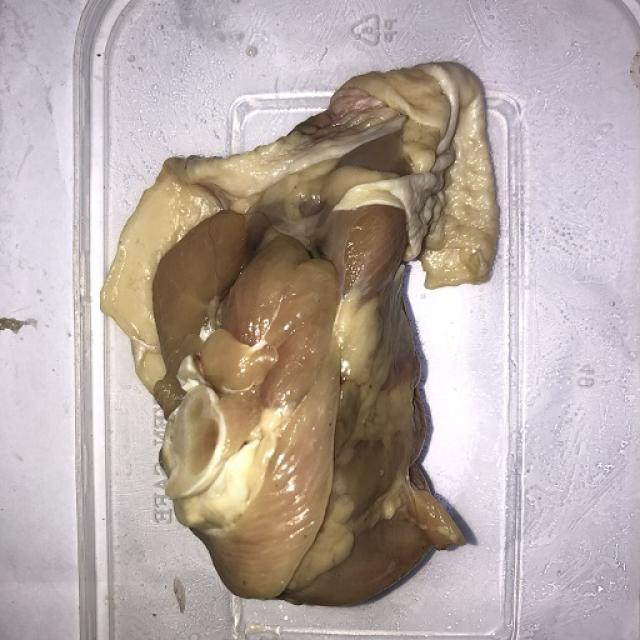Wet Waste: (92, 48, 503, 612)
